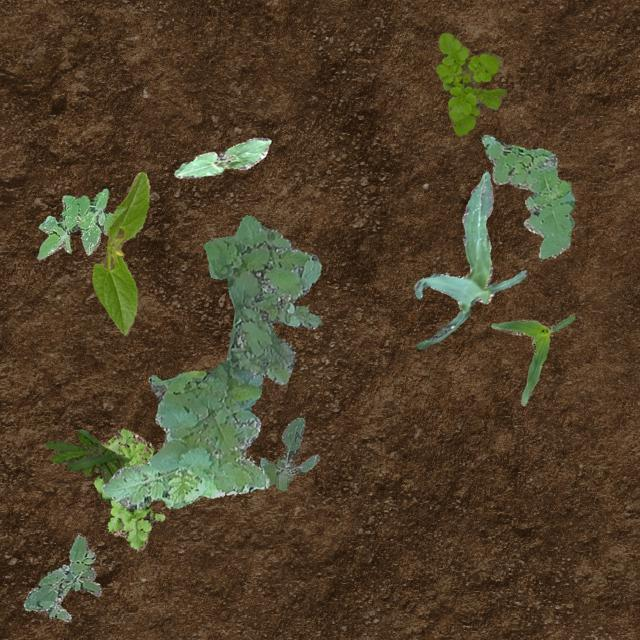crop: (414, 170, 526, 348), (92, 170, 148, 334), (490, 314, 572, 404), (172, 136, 270, 178)
weed: (100, 213, 320, 508), (481, 134, 574, 258), (92, 428, 164, 550), (434, 31, 506, 136), (23, 534, 100, 620), (36, 188, 112, 258), (258, 416, 318, 489), (44, 428, 124, 482)
